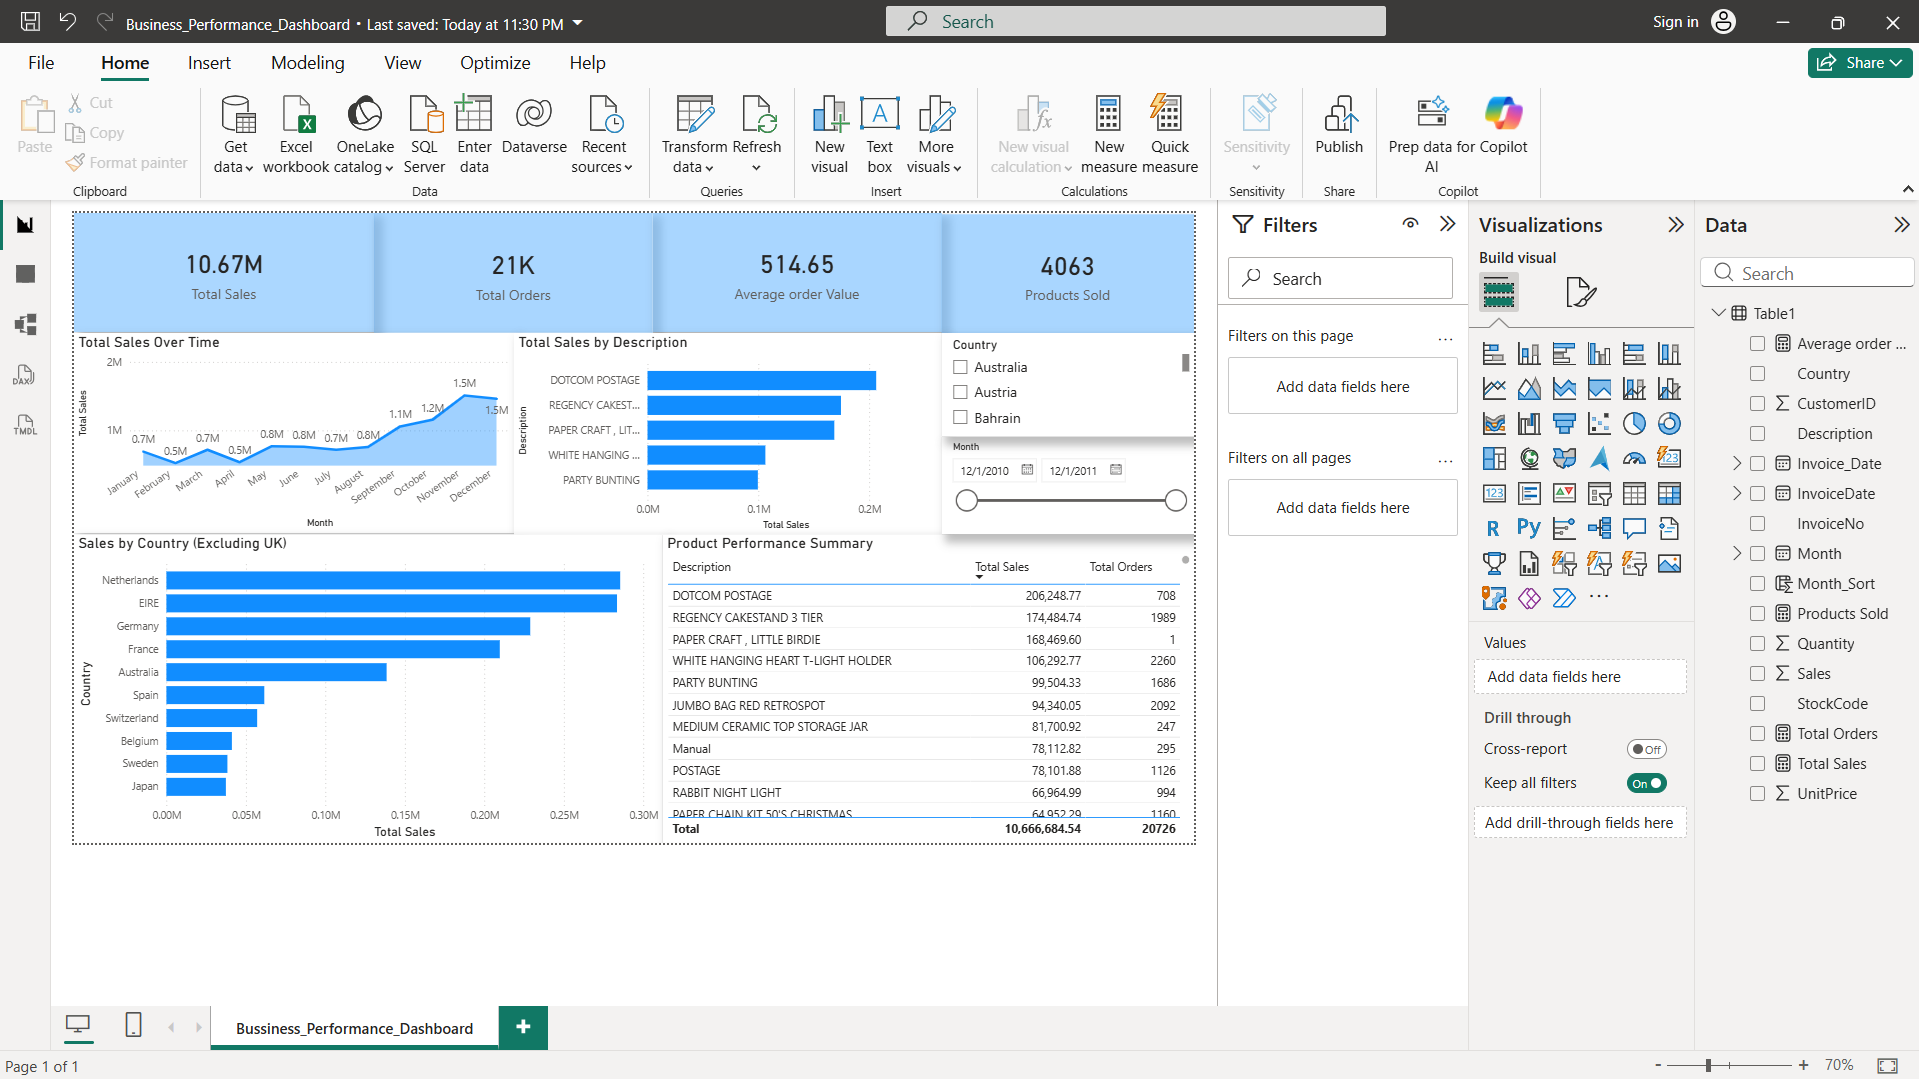

The page's visual inventory and layout, read from the dashboard file:
{"tool":"powerbi","page":{"name":"Bussiness_Performance_Dashboard","canvas":[1280,720],"ordinal":0},"visuals":[{"type":"card","fields":{"Values":["Table1.Total Sales"]},"box":[0,0,342.9,135.7],"z":0},{"type":"card","fields":{"Values":["Table1.Total Orders"]},"box":[342.9,0,318.6,137.1],"z":1000},{"type":"card","fields":{"Values":["Table1.Average order Value"]},"box":[661.4,0,330,135.7],"z":2000},{"type":"card","fields":{"Values":["Table1.Products Sold"]},"box":[991.4,1.4,288.6,135.7],"z":3000},{"type":"lineChart","title":"Total Sales Over Time","fields":{"Category":["Table1.Month.Variation.Date Hierarchy.Month"],"Y":["Table1.Total Sales"]},"box":[0,137.1,502.9,228.6],"z":4000},{"type":"clusteredBarChart","fields":{"Category":["Table1.Description"],"Y":["Table1.Total Sales"]},"box":[502.9,137.1,488.6,230],"z":5000},{"type":"clusteredBarChart","title":"Sales by Country (Excluding UK)","fields":{"Category":["Table1.Country"],"Y":["Table1.Total Sales"]},"box":[0,367.1,672.9,352.9],"z":6000},{"type":"tableEx","title":"Product Performance Summary","fields":{"Values":["Table1.Description","Table1.Total Sales","Table1.Total Orders"]},"box":[672.9,367.1,607.1,352.9],"z":7000},{"type":"slicer","fields":{"Values":["Table1.Month"]},"box":[991.4,255.7,288.6,111.4],"z":8000},{"type":"slicer","fields":{"Values":["Table1.Country"]},"box":[991.4,137.1,288.6,118.6],"z":9000}]}

Visuals, with their boxes on the page's 1280x720 design canvas (x1, y1, x2, y2). These are canvas units, not pixel positions in the 1919x1079 screenshot, which may show the page scaled, cropped or inside an application window:
card - Table1.Total Sales: bbox=(0, 0, 343, 136)
card - Table1.Total Orders: bbox=(343, 0, 662, 137)
card - Table1.Average order Value: bbox=(661, 0, 991, 136)
card - Table1.Products Sold: bbox=(991, 1, 1280, 137)
"Total Sales Over Time" lineChart: bbox=(0, 137, 503, 366)
clusteredBarChart - Table1.Description x Table1.Total Sales: bbox=(503, 137, 992, 367)
"Sales by Country (Excluding UK)" clusteredBarChart: bbox=(0, 367, 673, 720)
"Product Performance Summary" tableEx: bbox=(673, 367, 1280, 720)
slicer - Table1.Month: bbox=(991, 256, 1280, 367)
slicer - Table1.Country: bbox=(991, 137, 1280, 256)
